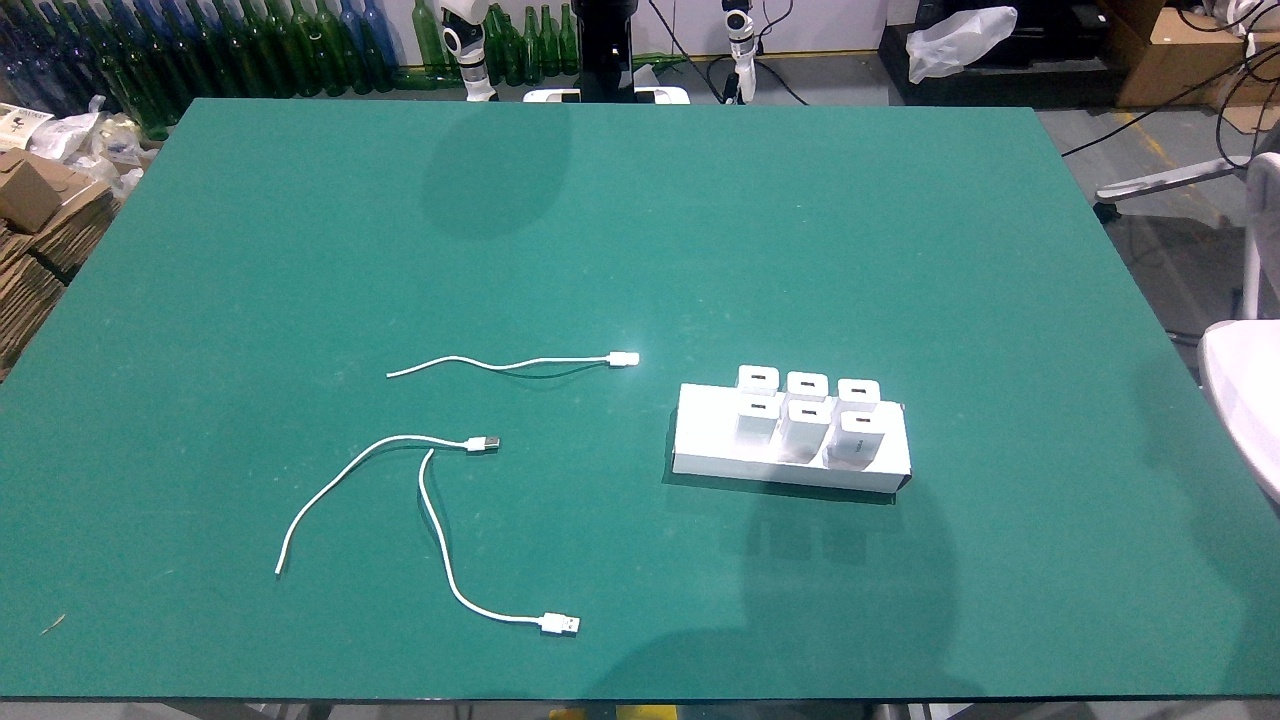usb_a_port: (748, 372, 768, 382), (799, 379, 818, 389), (800, 407, 819, 417), (854, 415, 872, 425), (850, 386, 867, 396), (750, 401, 766, 410)
